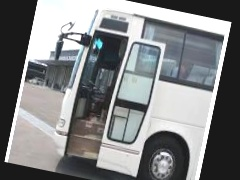bus: (37, 0, 228, 180)
